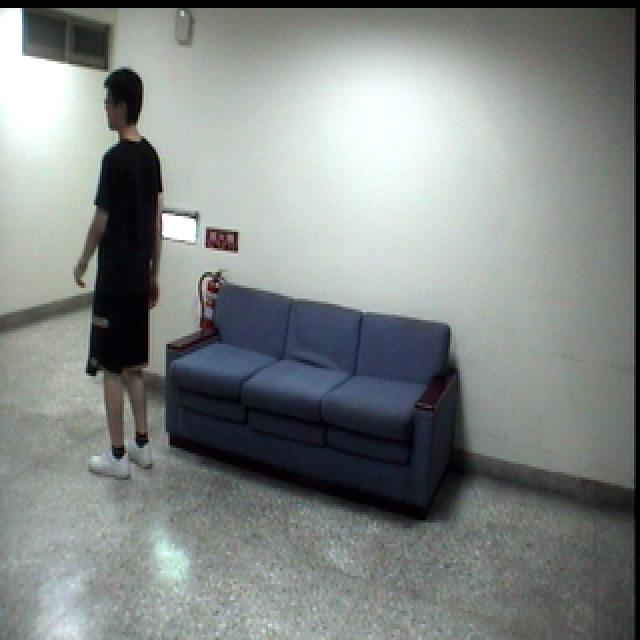stand: (62, 54, 176, 486)
